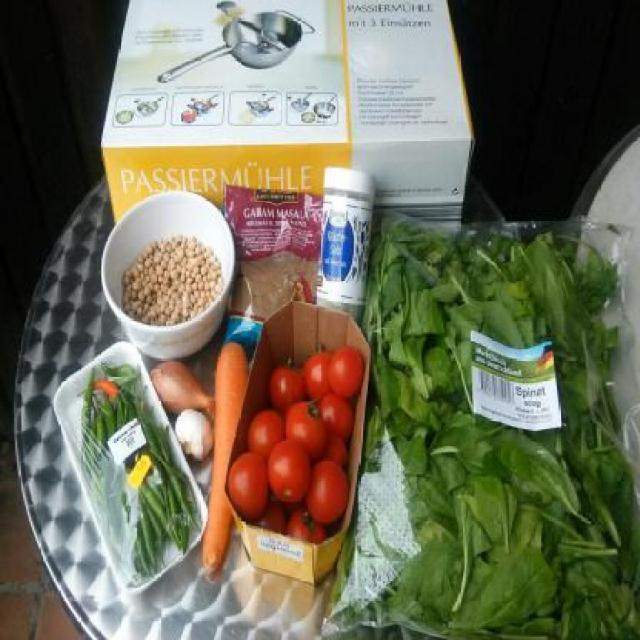Tomato: (228, 339, 364, 541), (262, 443, 310, 509), (326, 344, 366, 398)
